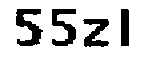5: (12, 5, 44, 50), (48, 6, 79, 51)
I: (119, 6, 135, 53)
z: (83, 15, 113, 52)
